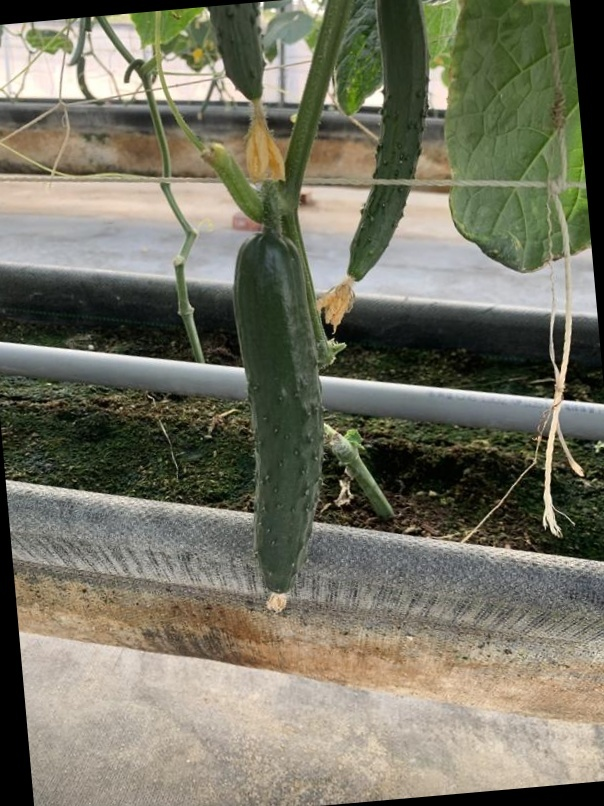mature: (229, 230, 324, 602), (337, 0, 432, 281)
